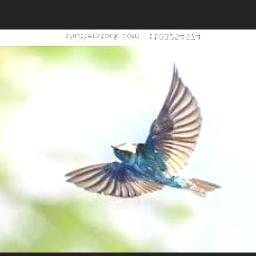Swallow: (64, 62, 222, 200)
